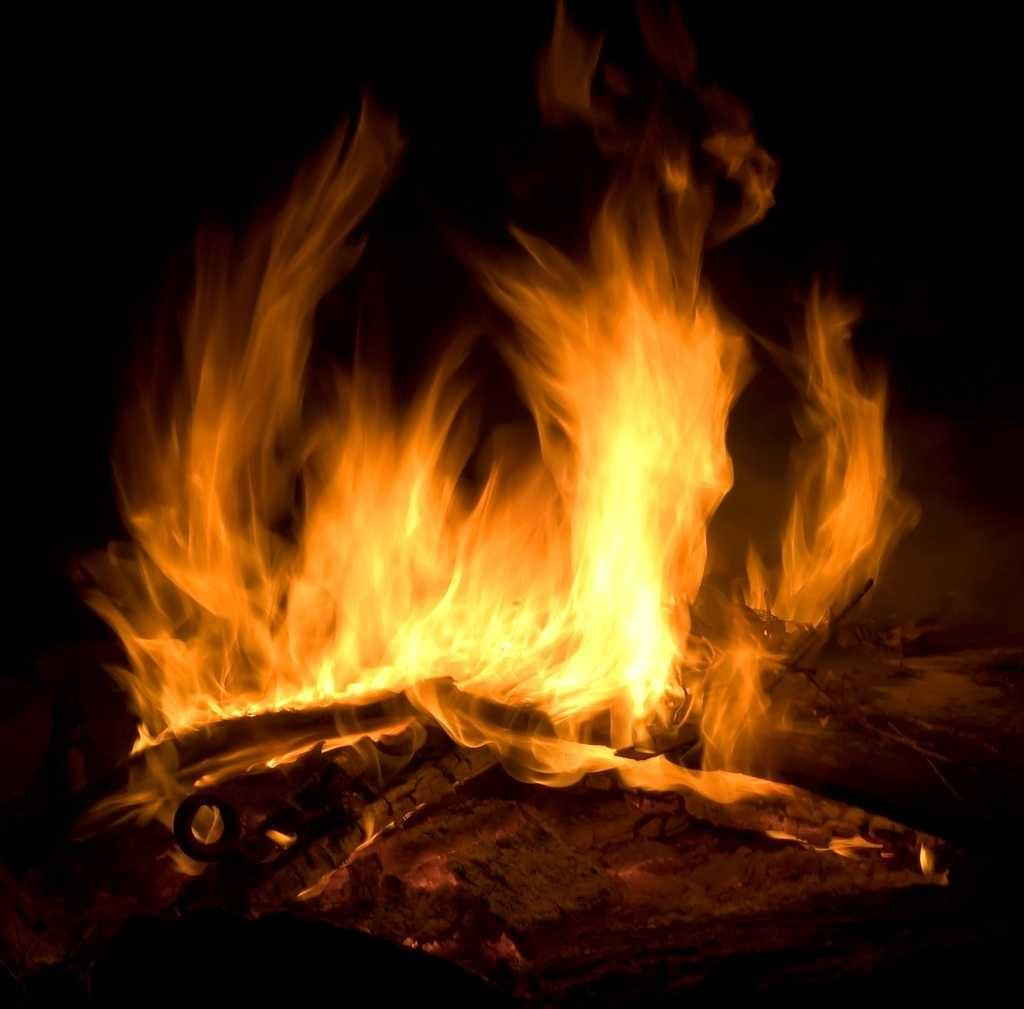fire: (548, 302, 695, 743), (318, 452, 450, 695)
